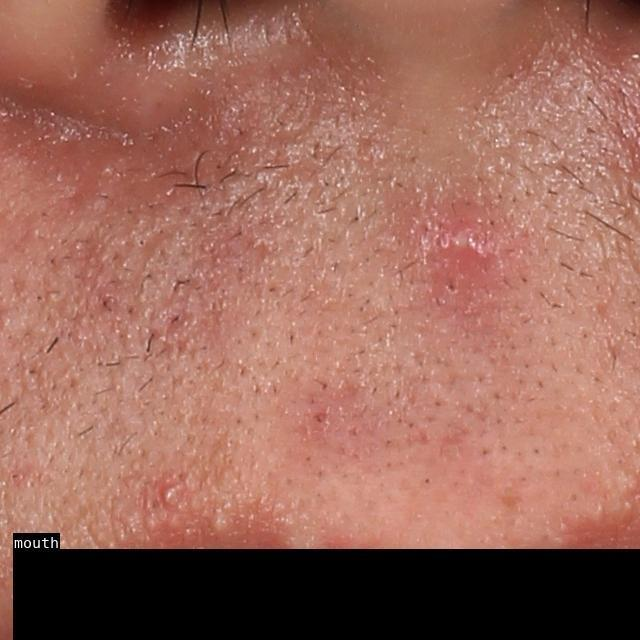pustule: (157, 483, 180, 510)
